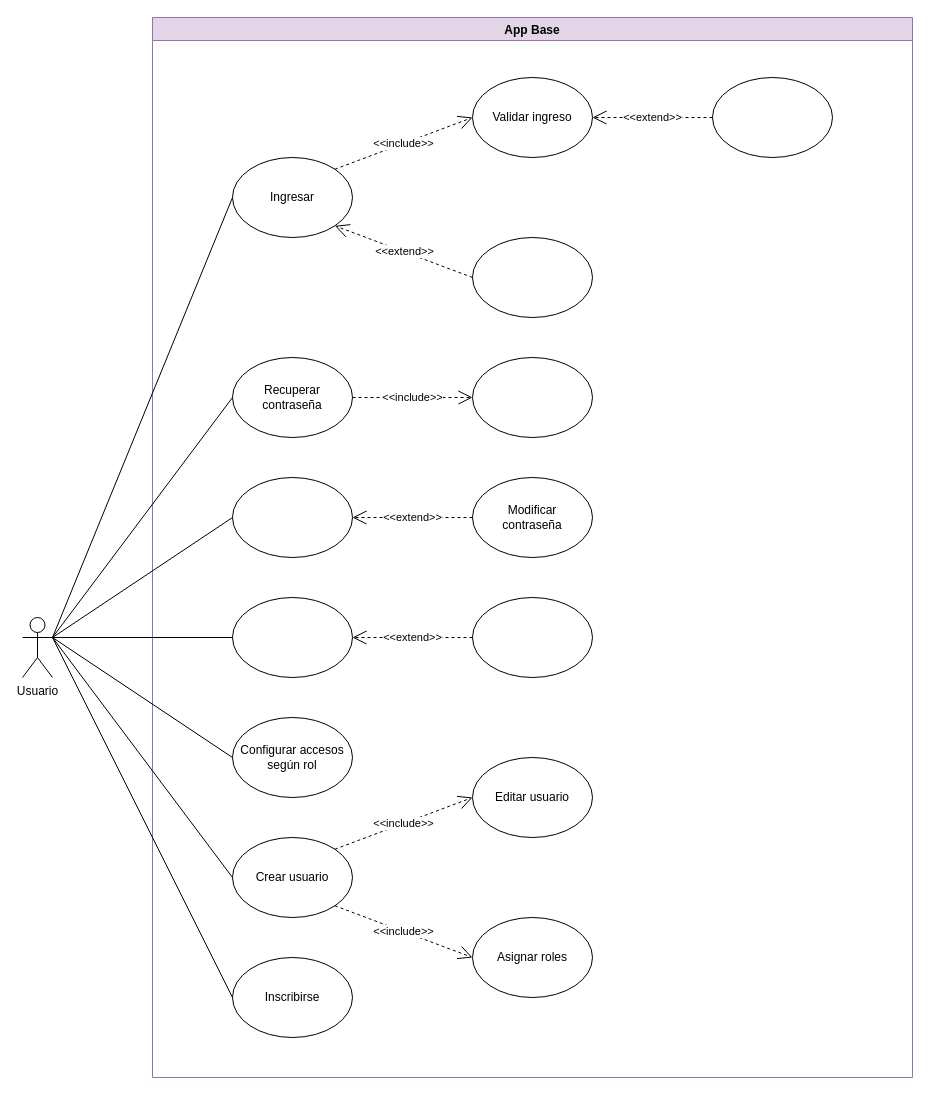
Image size: 930x1095. Some labels were removed from this diagram. Each missing label, with the centre of its shape:
"Crear roles" goes at (x=292, y=637).
"Editar roles" goes at (x=532, y=637).
"Mostrar datos de usuario" goes at (x=292, y=517).
"Reportar error" goes at (x=532, y=277).
"Validar primer acceso" goes at (x=772, y=117).
"Validar recuperación" goes at (x=532, y=397).
